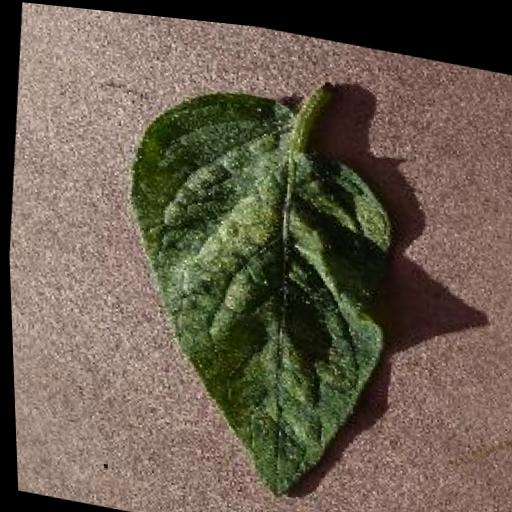Spider Mites: (98, 64, 405, 512)
